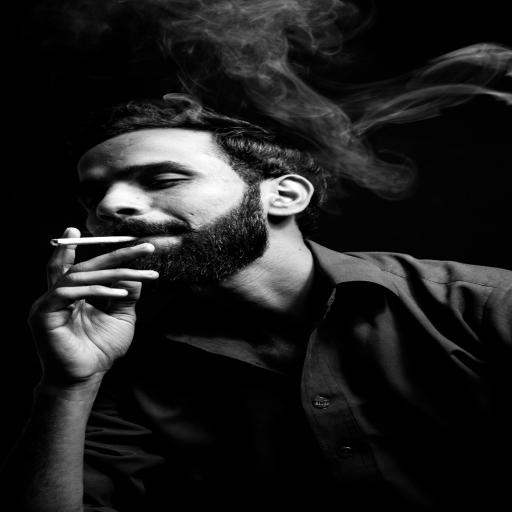terdeteksi merokok: (27, 163, 173, 282)
